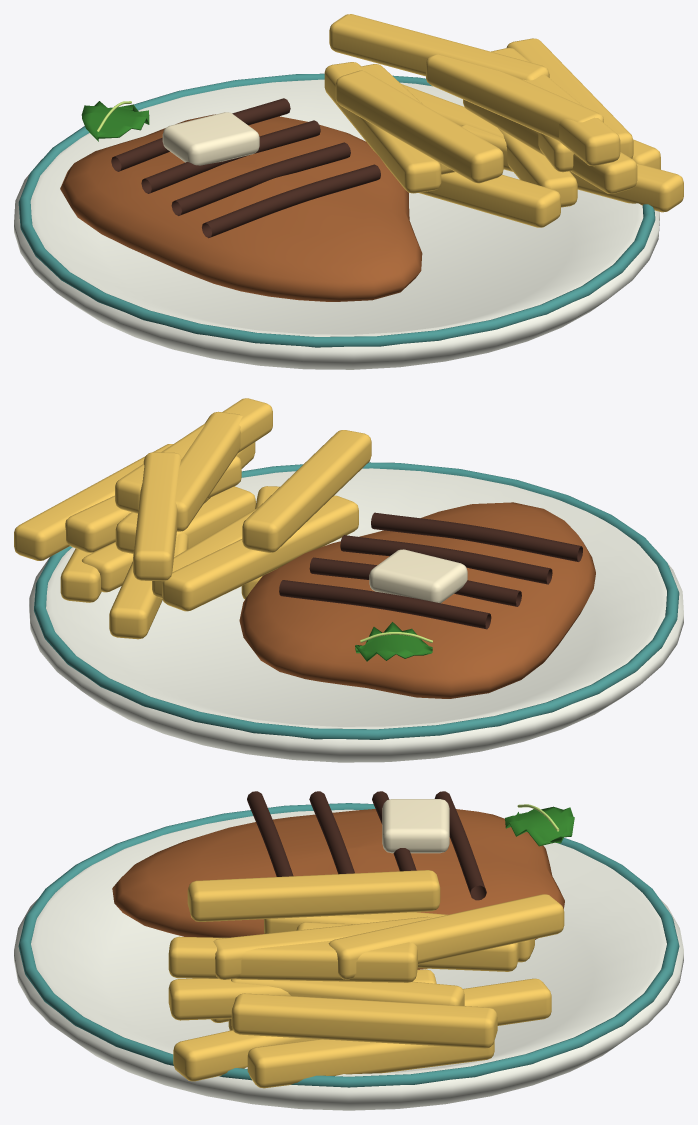
The model's file is steak-frites.glb.
3 renders of one model, top to bottom at view 1: azimuth 30°, elevation 25°; view 2: azimuth 150°, elevation 25°; view 3: azimuth 270°, elevation 25°, orthographic. The views are drawn at different scales.
Parts seen in each view (by area): view 1: steak-frites_mesh; view 2: steak-frites_mesh; view 3: steak-frites_mesh.
Boxes of the visible parts, bbox=[...] form: steak-frites_mesh: bbox=[14, 14, 683, 369]; steak-frites_mesh: bbox=[14, 398, 683, 762]; steak-frites_mesh: bbox=[14, 791, 683, 1110].
Size of the model in its own units: 0.3757 by 0.0916 by 0.375.
